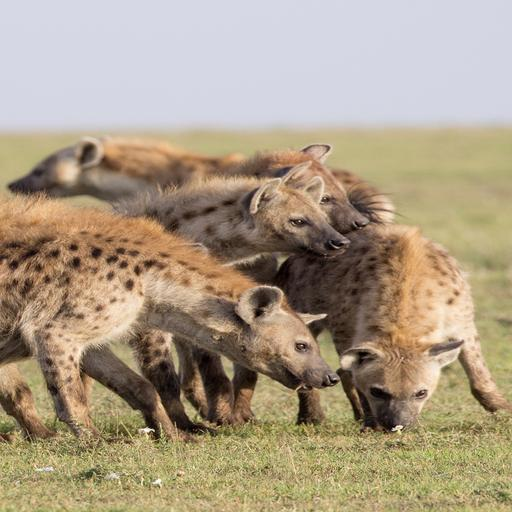Hyena: (0, 147, 383, 396), (0, 179, 352, 443), (0, 194, 340, 442), (0, 140, 401, 346), (244, 156, 510, 442)
